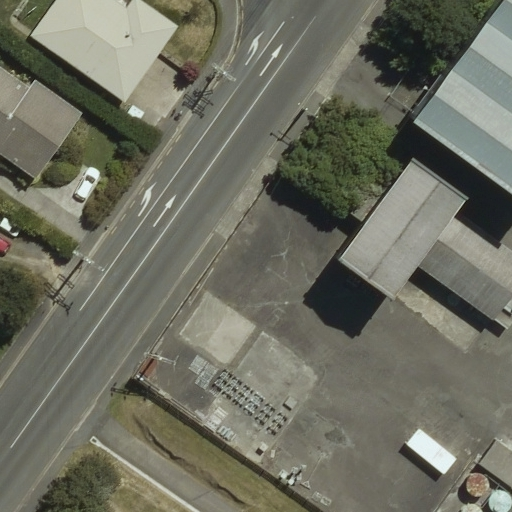DT: (67, 240, 105, 284), (202, 56, 239, 90)
